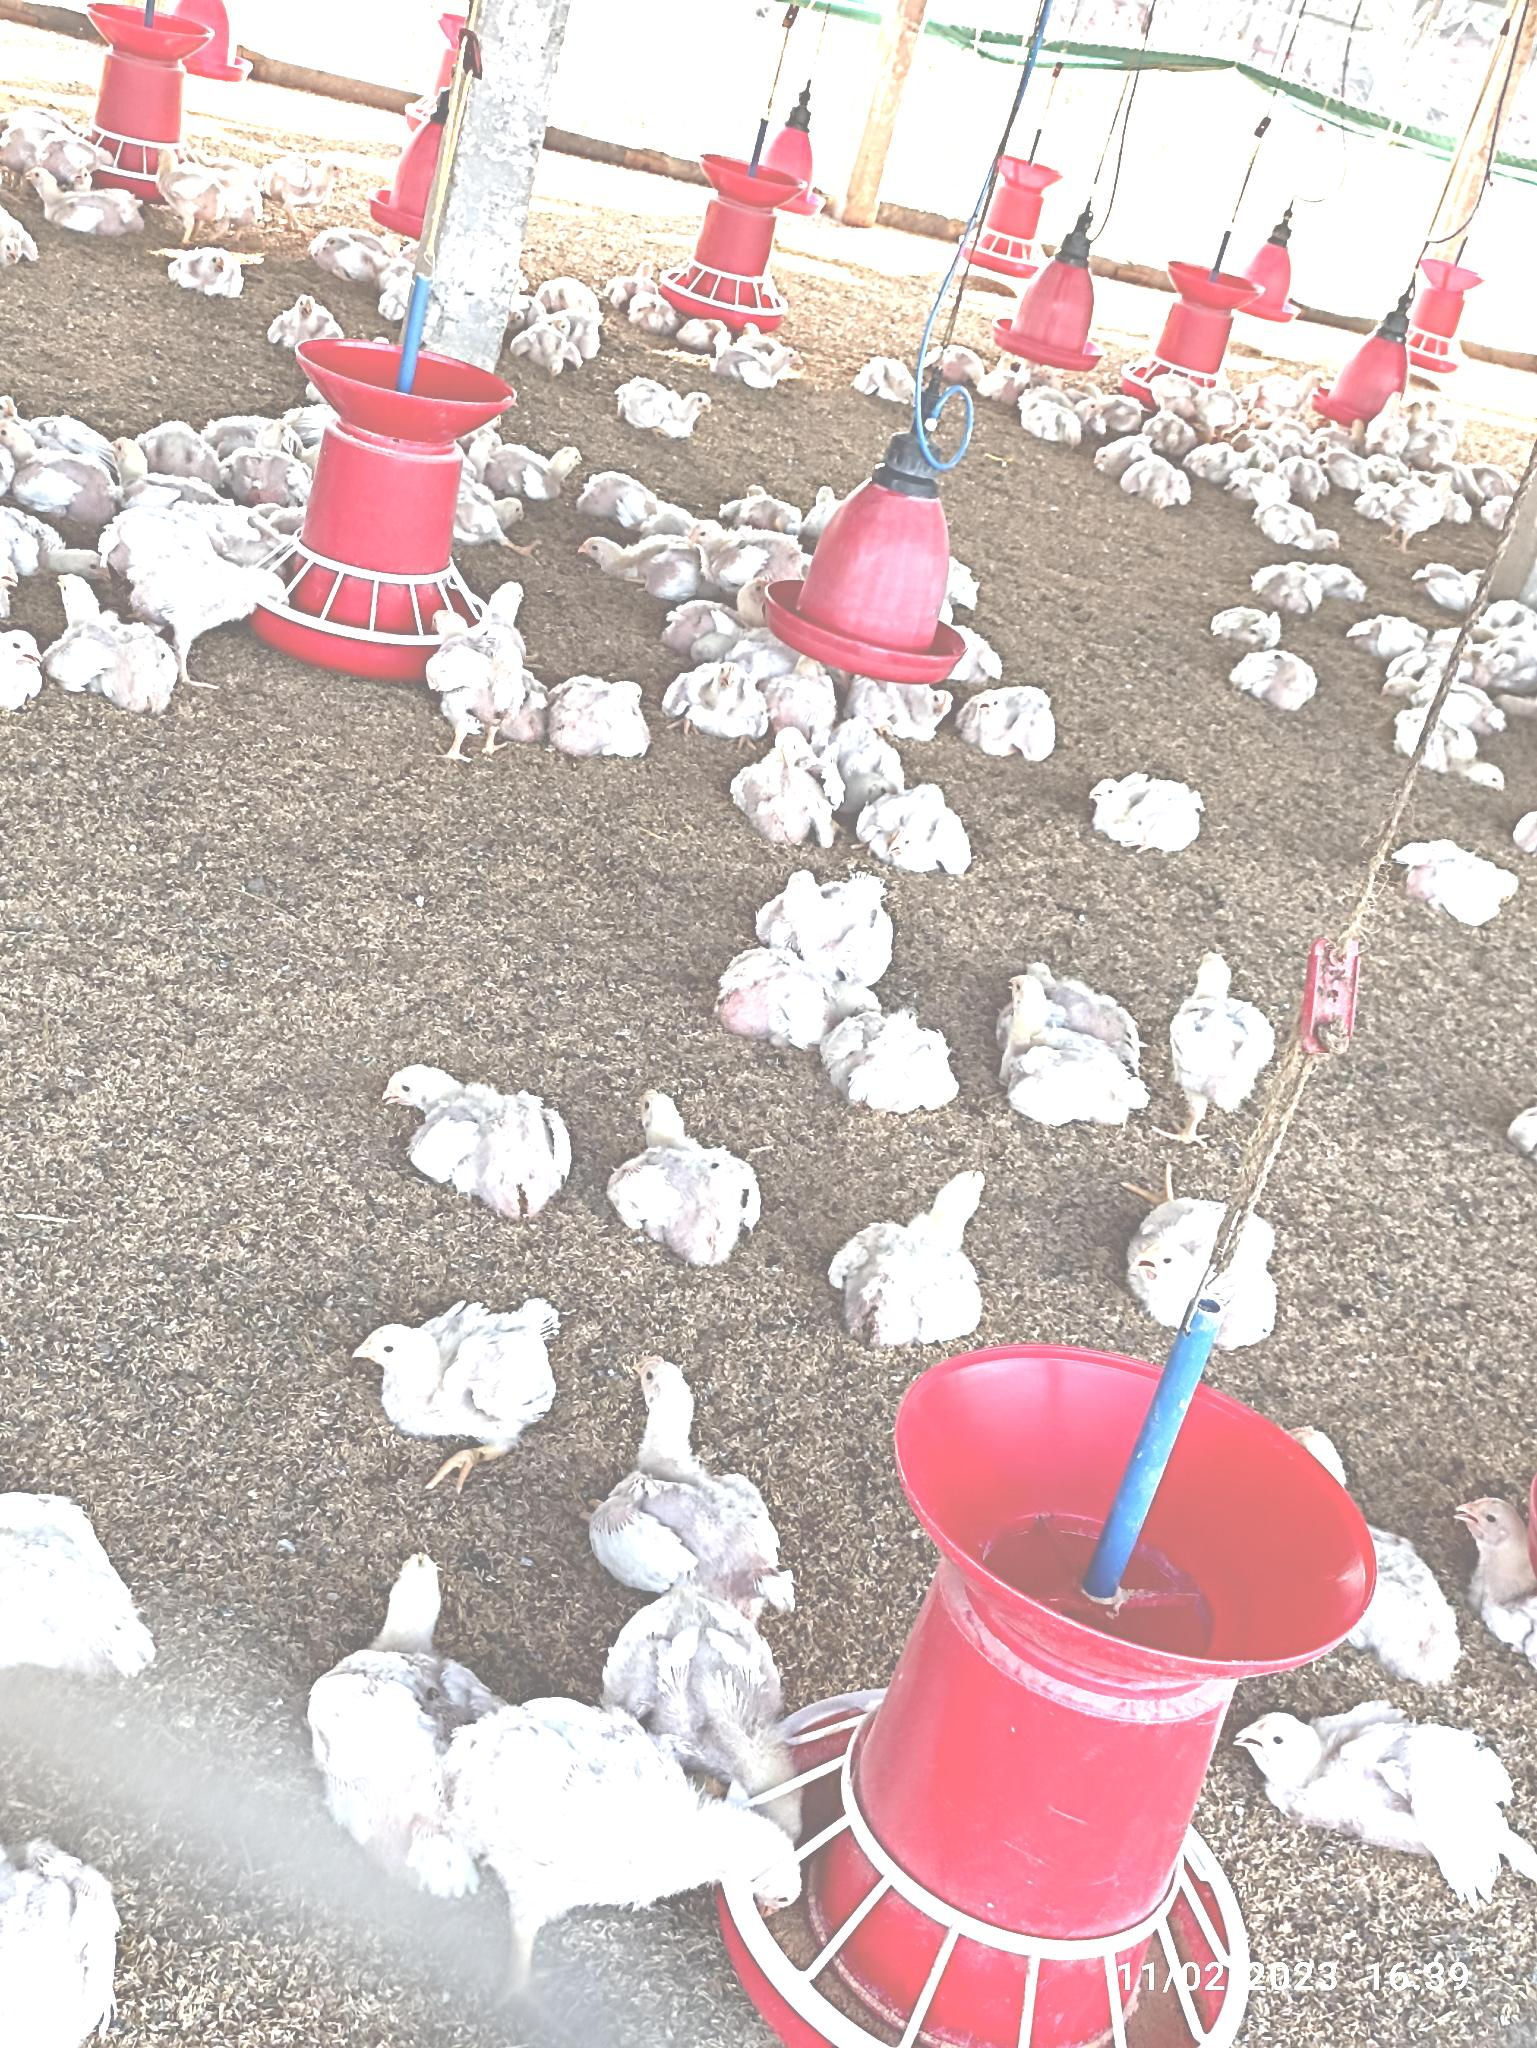Pollos: (468, 1691, 812, 1945), (1246, 1698, 1537, 1909), (318, 1561, 471, 1874), (384, 1046, 584, 1225), (852, 1144, 1022, 1356), (638, 1349, 785, 1577), (350, 1309, 584, 1449), (618, 1075, 762, 1272), (1133, 1180, 1271, 1359), (116, 495, 283, 626), (32, 570, 182, 710), (429, 600, 554, 757), (1180, 947, 1280, 1141), (762, 862, 903, 988), (1030, 975, 1137, 1122), (827, 1009, 969, 1112), (1405, 831, 1522, 941), (568, 529, 718, 607), (869, 791, 986, 888), (1087, 759, 1204, 854), (551, 670, 660, 757), (762, 726, 835, 847), (484, 429, 584, 507), (609, 370, 718, 439), (676, 647, 768, 729), (1224, 641, 1314, 720), (158, 237, 249, 308), (869, 679, 949, 746), (990, 688, 1062, 750)
